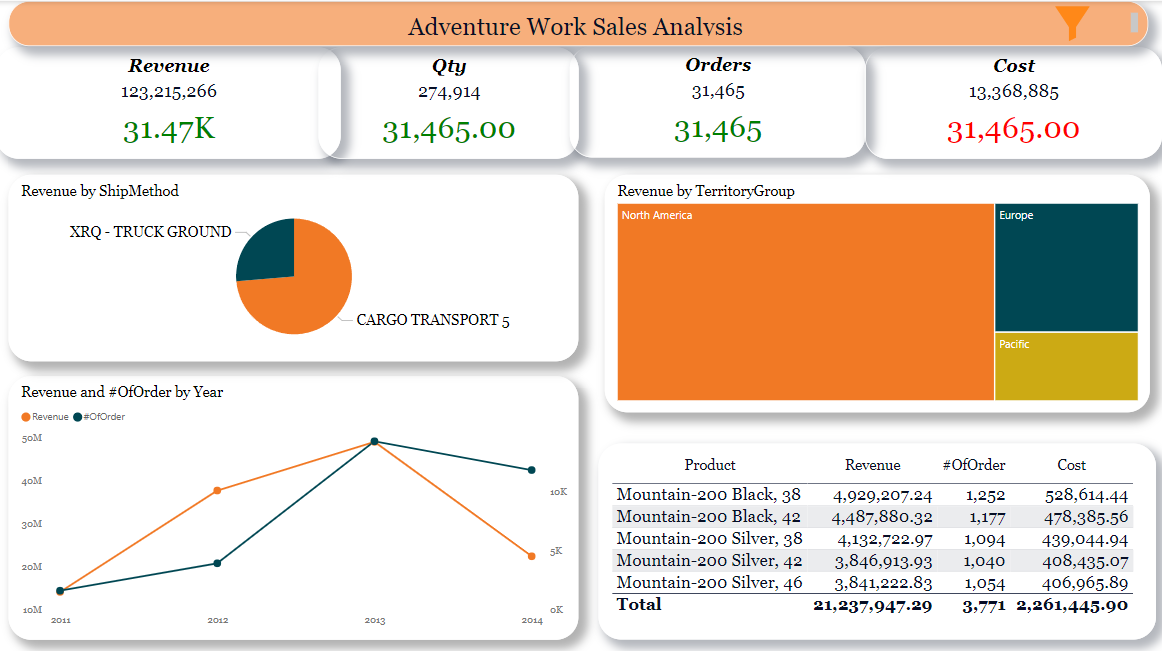

This screenshot's page, from the dashboard's own definition file:
{"tool":"powerbi","page":{"name":"Overview","canvas":[1280,720],"ordinal":0},"visuals":[{"type":"card","title":"Revenue","fields":{"Values":["DaxMeasures.RevenueCompare"]},"box":[0,50.6,378.1,122.1],"z":0},{"type":"card","title":"Qty","fields":{"Values":["DaxMeasures.QtyCompare"]},"box":[354.3,50.6,285.8,122.1],"z":1000},{"type":"card","title":"Orders","fields":{"Values":["DaxMeasures.OrderCompar"]},"box":[629.7,49.1,324.5,122.1],"z":2000},{"type":"card","title":"Cost","fields":{"Values":["DaxMeasures.CostCompare"]},"box":[954.3,50.6,326,122.1],"z":3000},{"type":"lineChart","fields":{"Category":["DimDate.Year Hierarchy.Year","DimDate.Year Hierarchy.Quarter","DimDate.Year Hierarchy.Month","DimDate.Year Hierarchy.Day"],"Y":["DaxMeasures.Revenue"],"Y2":["DaxMeasures.#OfOrder"]},"box":[13.7,411.7,625.7,289.5],"z":4000},{"type":"treemap","fields":{"Group":["DimTorritery.TerritoryGroup Hierarchy.TerritoryGroup","DimTorritery.TerritoryGroup Hierarchy.Territory"],"Values":["DaxMeasures.Revenue"]},"box":[668.3,190.7,598.3,260.7],"z":5000},{"type":"pieChart","fields":{"Category":["DimShipMethod.ShipMethod"],"Y":["DaxMeasures.Revenue"]},"box":[13.7,190.7,625.7,204.5],"z":6000},{"type":"tableEx","fields":{"Values":["DimProduct.Product","DaxMeasures.Revenue","DaxMeasures.#OfOrder","DaxMeasures.Cost"]},"box":[661.4,485.8,612,215.4],"z":7000},{"type":"textbox","box":[14.3,0,1251.5,49.9],"z":14000},{"type":"image","box":[1141.7,0,79.8,49.9],"z":15000},{"type":"card","fields":{"Values":["DaxMeasures.ArrowIcon"]},"box":[637.6,98.4,62.3,69.7],"z":16000},{"type":"card","fields":{"Values":["DaxMeasures.RevArrowIcon"]},"box":[0,93.4,56,79.7],"z":17000},{"type":"card","fields":{"Values":["DaxMeasures.QtyArrowIcon"]},"box":[335,108.3,68.5,57.3],"z":18000},{"type":"card","fields":{"Values":["DaxMeasures.CostArrowIcon"]},"box":[931.5,117.1,73.5,39.9],"z":19000}]}

Visuals, with their boxes in screenshot pixels (x1, y1, x2, y2), scaled from the page's 1280x720 canvas onto the 1162x651 screenshot:
"Revenue" card: 0:46:343:156
"Qty" card: 322:46:581:156
"Orders" card: 572:44:866:155
"Cost" card: 866:46:1161:156
lineChart - DimDate.Year Hierarchy.Year x DimDate.Year Hierarchy.Quarter: 12:372:580:634
treemap - DimTorritery.TerritoryGroup Hierarchy.TerritoryGroup x DimTorritery.TerritoryGroup Hierarchy.Territory: 607:172:1150:408
pieChart - DimShipMethod.ShipMethod x DaxMeasures.Revenue: 12:172:580:357
tableEx - DimProduct.Product x DaxMeasures.Revenue: 600:439:1156:634
textbox: 13:0:1149:45
image: 1036:0:1109:45
card - DaxMeasures.ArrowIcon: 579:89:635:152
card - DaxMeasures.RevArrowIcon: 0:84:51:157
card - DaxMeasures.QtyArrowIcon: 304:98:366:150
card - DaxMeasures.CostArrowIcon: 846:106:912:142
